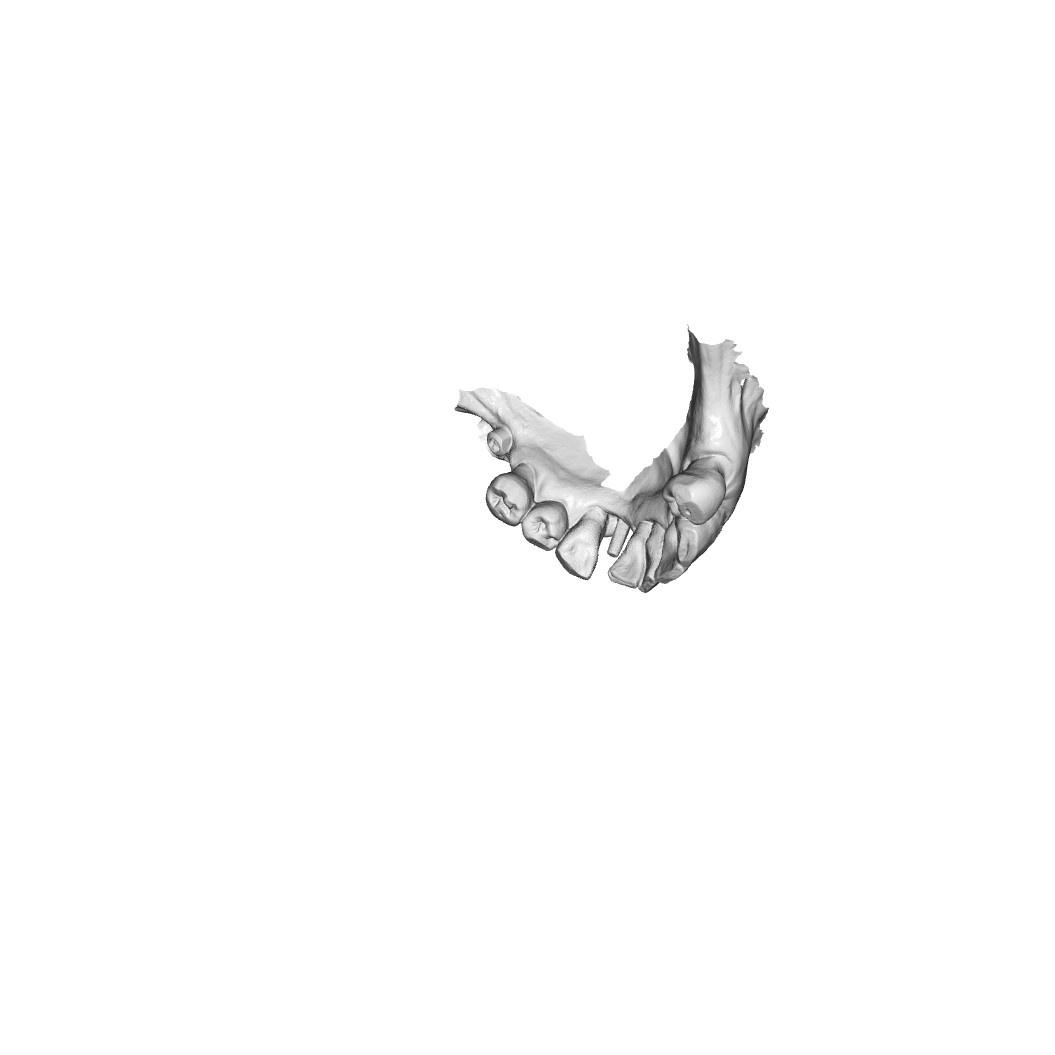canine: (557, 513, 606, 583)
incisor: (652, 529, 690, 581), (615, 530, 650, 585), (675, 519, 714, 564), (638, 543, 657, 597)
premolar: (670, 465, 720, 522), (487, 475, 528, 524), (524, 502, 565, 545)
